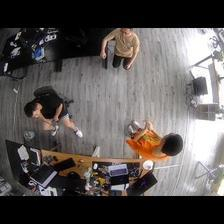fall: (100, 29, 142, 72)
normal: (24, 87, 84, 140), (125, 118, 184, 165)
